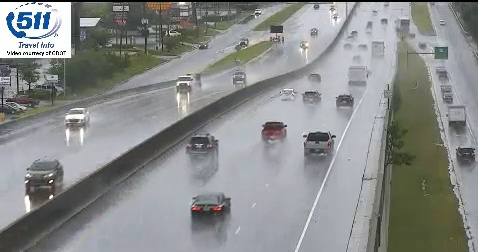car: (191, 193, 230, 221), (304, 131, 334, 155), (186, 134, 218, 155), (261, 122, 286, 140), (303, 90, 321, 104), (336, 95, 354, 108)
